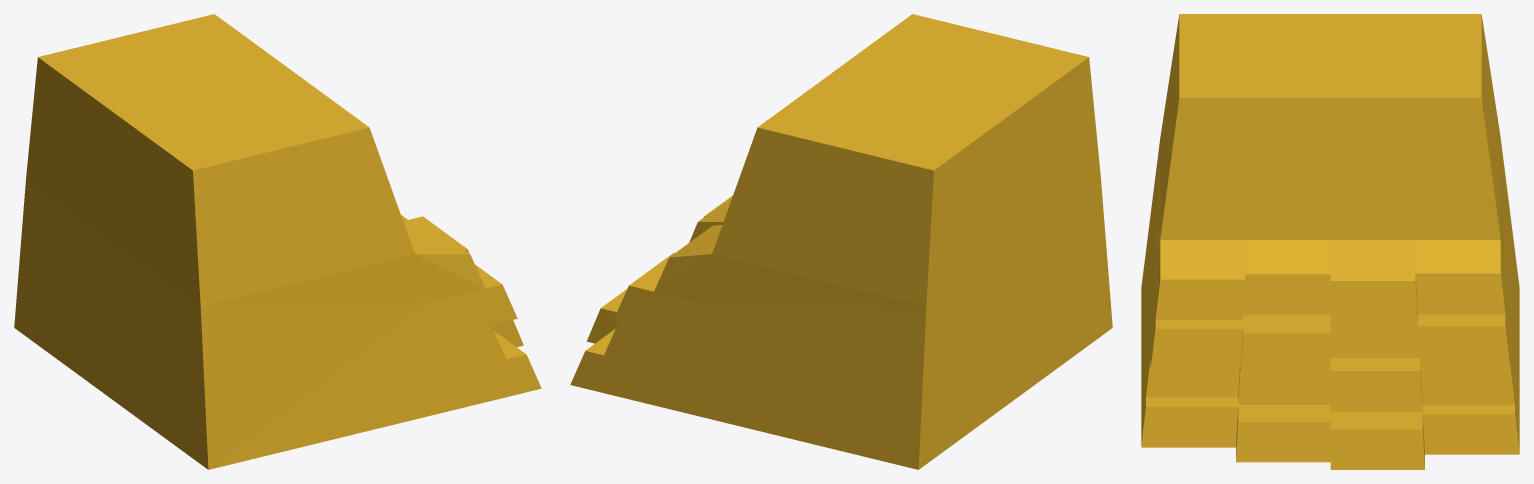
The model's file is fbx_pants_plain.fbx.
3 renders of one model, left to right at view 1: azimuth 30°, elevation 25°; view 2: azimuth 150°, elevation 25°; view 3: azimuth 270°, elevation 25°, orthographic. The views are drawn at different scales.
Visible parts, largest first — view 1: sm_pants_plain; view 2: sm_pants_plain; view 3: sm_pants_plain.
Boxes of the visible parts, x1=… form: sm_pants_plain: x1=14, y1=14, x2=541, y2=469; sm_pants_plain: x1=570, y1=14, x2=1112, y2=469; sm_pants_plain: x1=1141, y1=14, x2=1519, y2=469.
Bounding box in the file's own units: 43.43 × 30.98 × 38.38.
